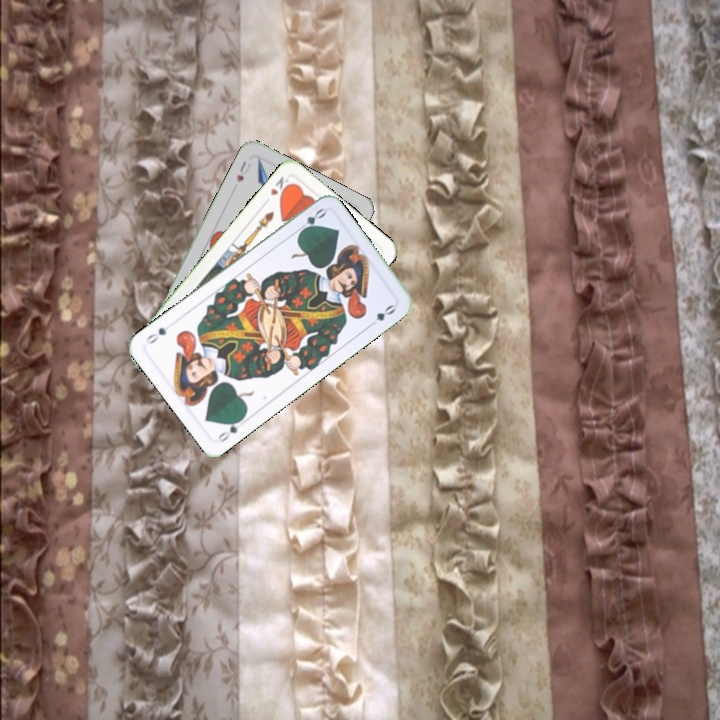GO: (292, 204, 329, 237), (214, 413, 247, 445)
HK: (266, 172, 294, 200)
HU: (232, 157, 254, 185)
